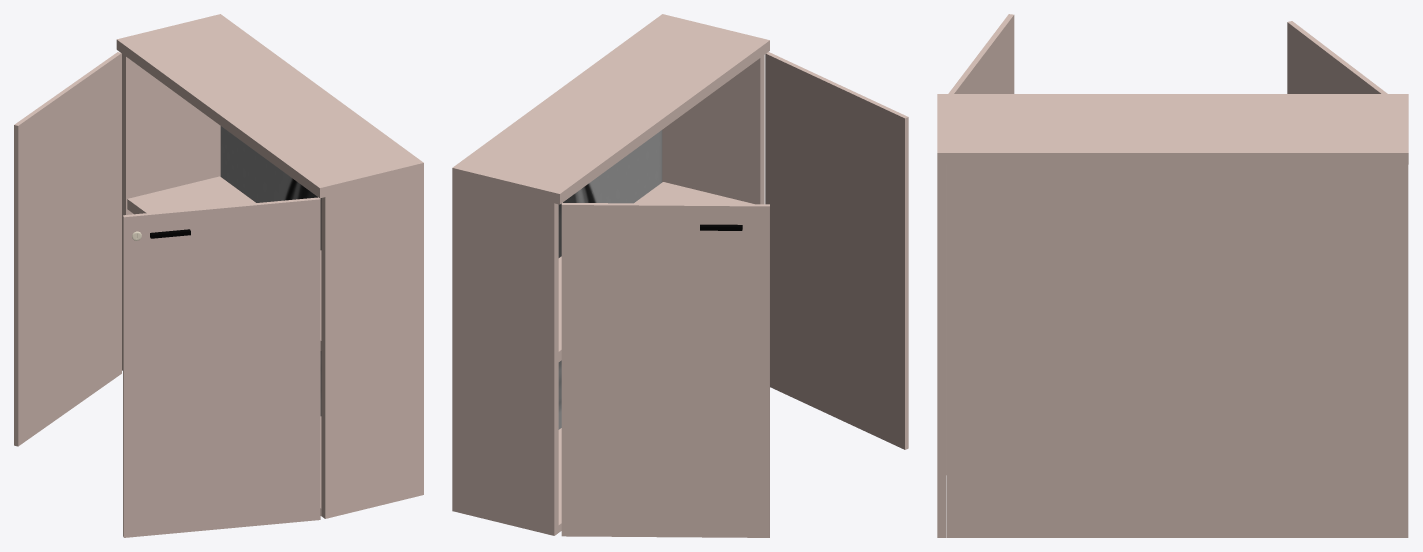
Rendered from shkafsverhu.fbx.
3 views of the same model, side by side, from view 1: azimuth 30°, elevation 25°; view 2: azimuth 150°, elevation 25°; view 3: azimuth 270°, elevation 25° (orthographic). The views are drawn at different scales.
Visible parts, largest first — view 1: shkaf, dver_right, dver_left; view 2: shkaf, dver_left, dver_right; view 3: shkaf, dver_left, dver_right.
Part boxes in pixels (x1=…): shkaf: x1=116, y1=14, x2=423, y2=518; dver_right: x1=123, y1=197, x2=320, y2=537; dver_left: x1=14, y1=52, x2=121, y2=446; shkaf: x1=452, y1=14, x2=769, y2=535; dver_left: x1=561, y1=202, x2=769, y2=537; dver_right: x1=765, y1=52, x2=908, y2=449; shkaf: x1=937, y1=94, x2=1408, y2=537; dver_left: x1=1287, y1=21, x2=1387, y2=93; dver_right: x1=946, y1=14, x2=1014, y2=474.
Bounding box in the file's own units: 68.83 × 81.2 × 90.1.
